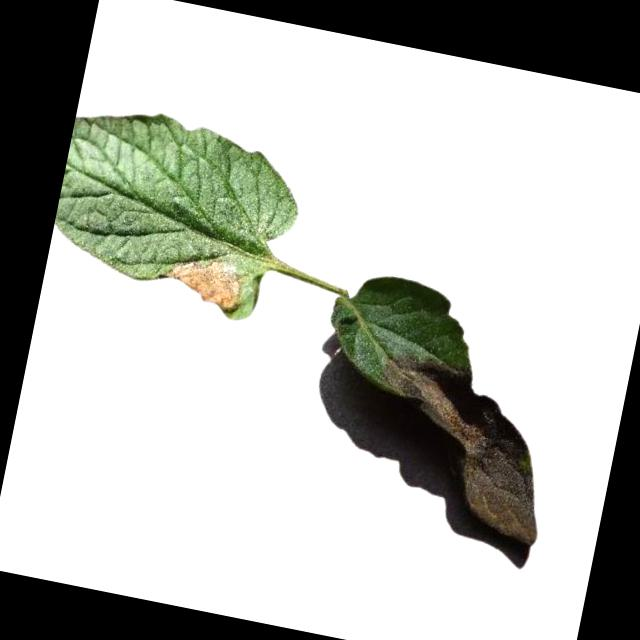Late_blight: (352, 345, 568, 545), (163, 255, 247, 316)
